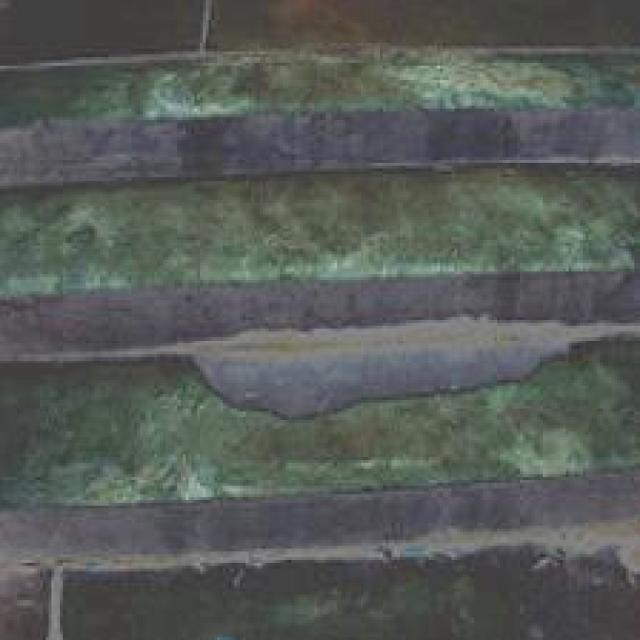upstair: (110, 290, 455, 598)
